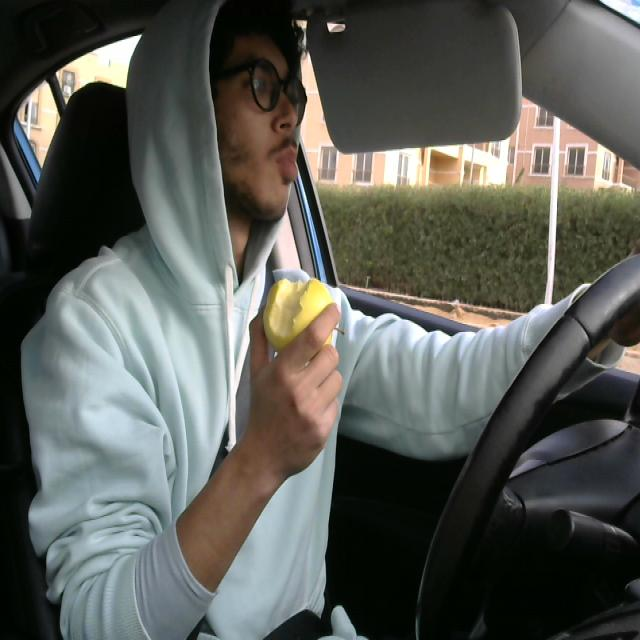eating: (262, 272, 330, 361)
